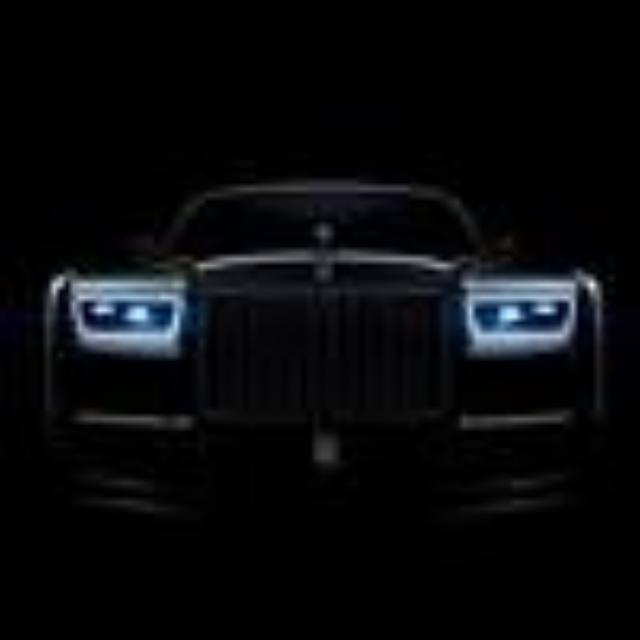rolls-royce: (44, 182, 604, 590)
